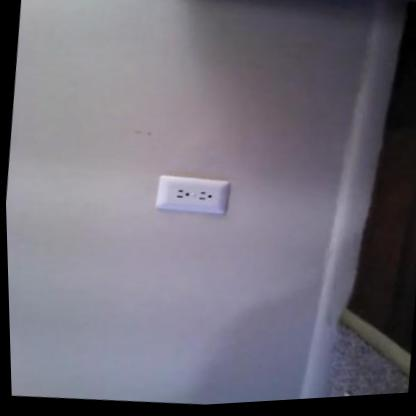OUTLET: (153, 169, 232, 219)
